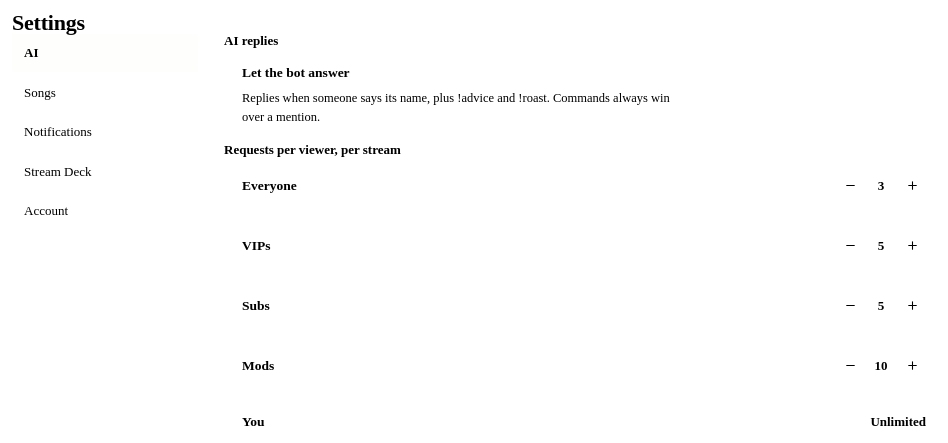
Test: Settings, the Stream Deck pane › lists keys by prefix and never a whole key
Click the button "Stream Deck": (105, 171) [12, 152, 198, 190]
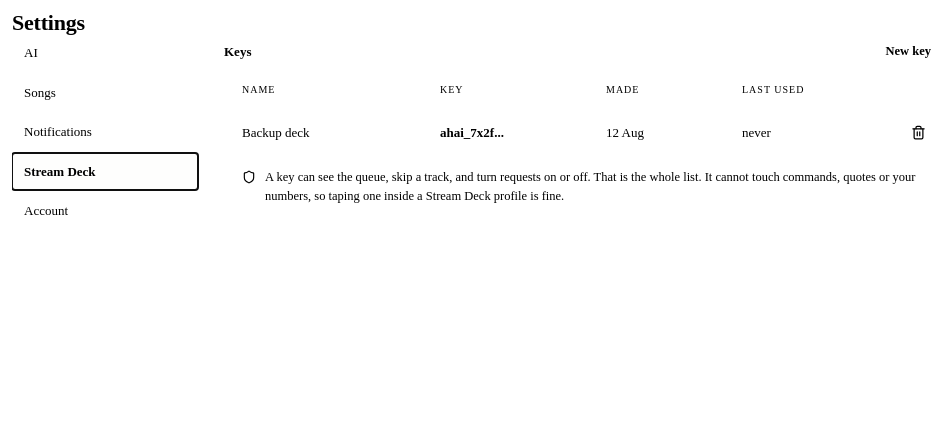
Result: the text "ahai_7x2f..." is shown at [440, 125, 504, 140]
Result: the text "Backup deck" is shown at [242, 125, 310, 140]
Result: the text "12 Aug" is shown at [606, 125, 644, 140]
